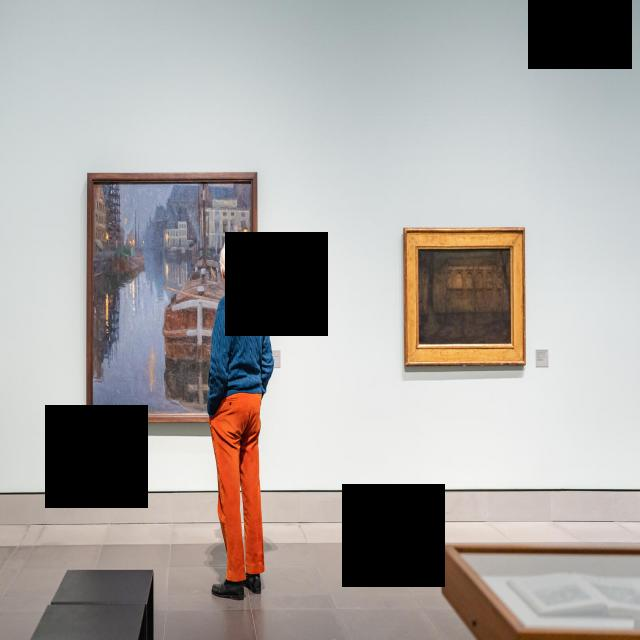Tablo: (91, 181, 253, 414), (417, 247, 512, 345)
